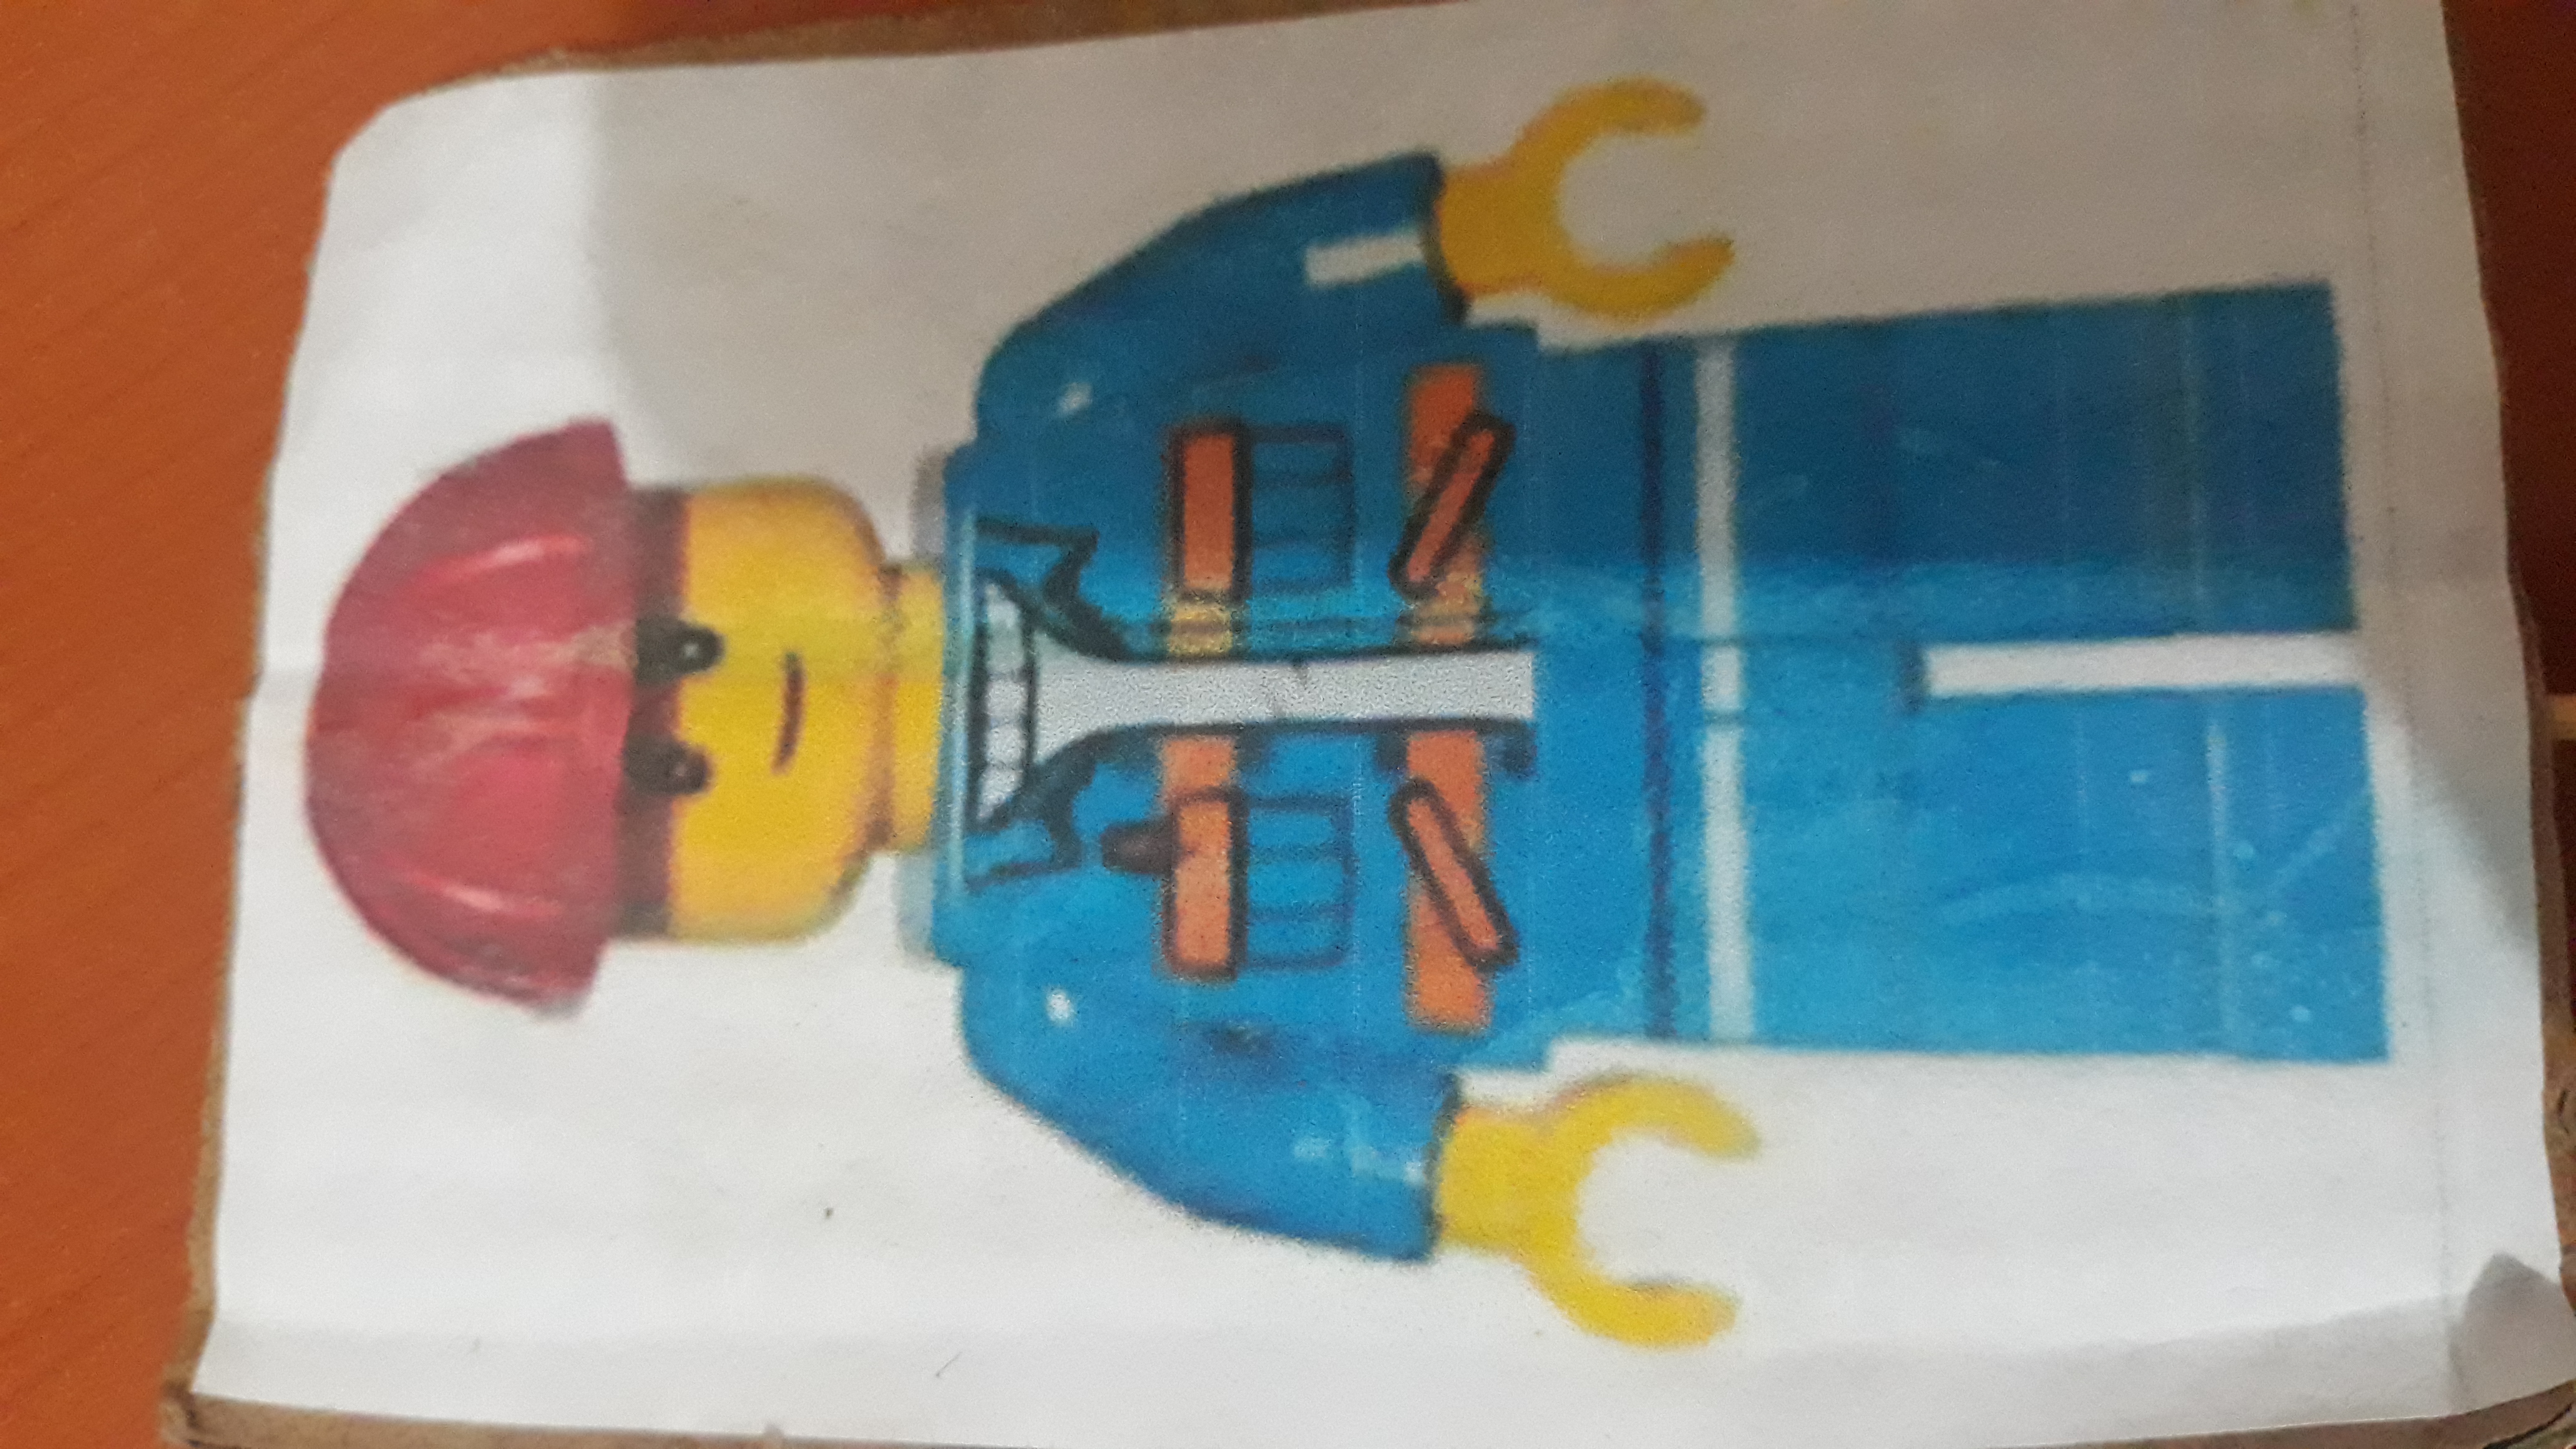pedestrian: (338, 134, 2459, 1362)
